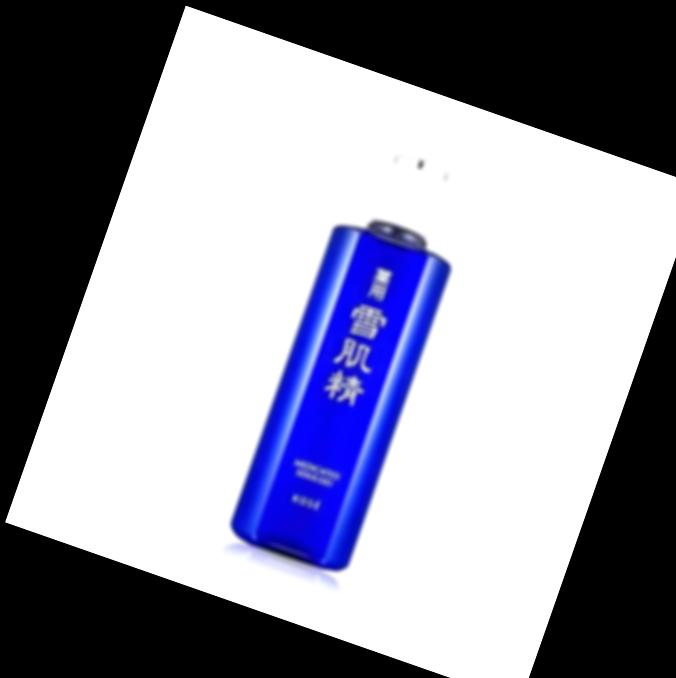cosmetic: (223, 142, 488, 580)
